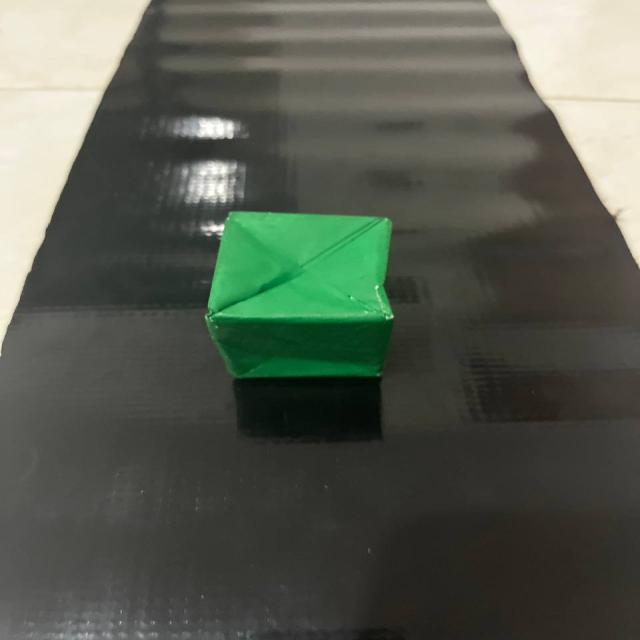Verde: (197, 196, 413, 401)
